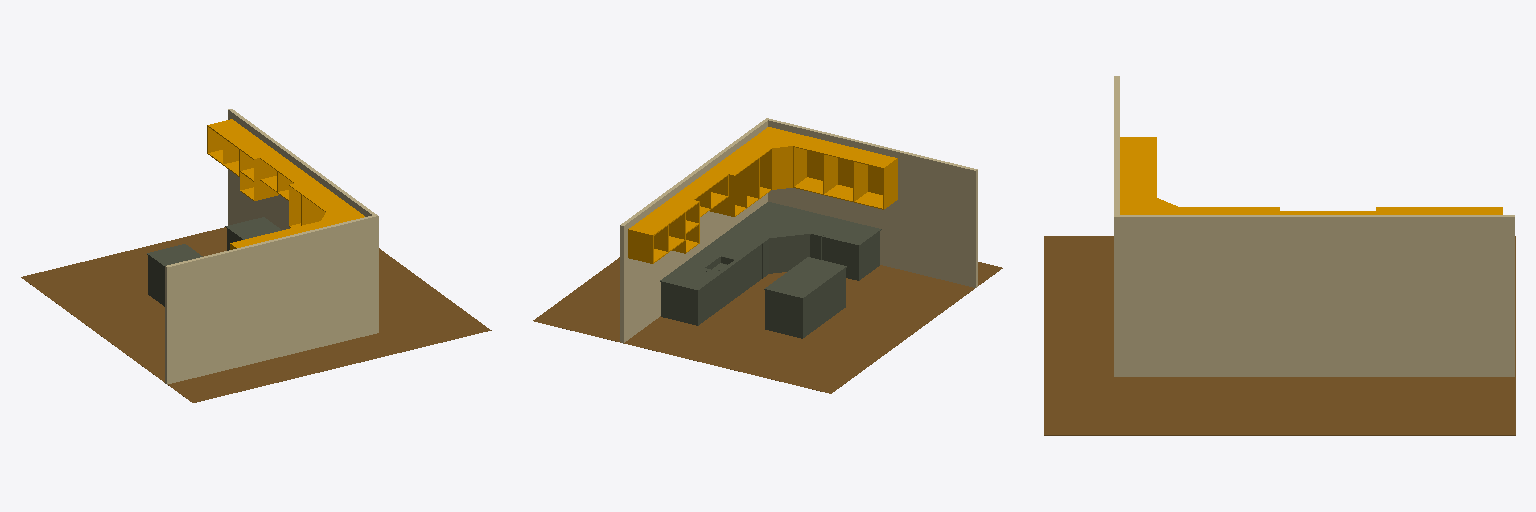
URDF robot description (Kitchen_static):
<?xml version="1.0"?>
<!-- created with Phobos 1.0.1 "Capricious Choutengan" -->
  <robot name="Kitchen_static">

    <link name="cabinets_root">
      <inertial>
        <origin xyz="0 0 0" rpy="0 0 0"/>
        <mass value="0.001"/>
        <inertia ixx="0.001" ixy="0" ixz="0" iyy="0.001" iyz="0" izz="0.001"/>
      </inertial>
      <visual name="Cabinets">
        <origin xyz="-0.45157 -0.20882 0" rpy="0 0 0"/>
        <geometry>
          <mesh filename="..\meshes\dae\Cabinets.dae" scale="1.0 1.0 1.0"/>
        </geometry>
      </visual>
      <collision name="Cabinets.000">
        <origin xyz="-0.45157 -0.20882 0" rpy="0 0 0"/>
        <geometry>
          <mesh filename="..\meshes\dae\Cabinets.009.dae" scale="1.0 1.0 1.0"/>
        </geometry>
      </collision>
    </link>

    <link name="countertop1_link">
      <inertial>
        <origin xyz="0 0 0" rpy="0 0 0"/>
        <mass value="0.001"/>
        <inertia ixx="0.001" ixy="0" ixz="0" iyy="0.001" iyz="0" izz="0.001"/>
      </inertial>
      <visual name="Countertop_Top1">
        <origin xyz="0 -0.00258 -0.00031" rpy="0 0 0"/>
        <geometry>
          <mesh filename="..\meshes\dae\Cube.152.dae" scale="1.0 1.0 1.0"/>
        </geometry>
        <material name="GenericCounterMaterial"/>
      </visual>
      <collision name="Countertop_Top1.000">
        <origin xyz="0 -0.00258 -0.00061" rpy="0 0 0"/>
        <geometry>
          <mesh filename="..\meshes\dae\Cube.153.dae" scale="1.0 1.0 1.0"/>
        </geometry>
      </collision>
    </link>

    <link name="countertop_corner_link">
      <inertial>
        <origin xyz="0 0 0" rpy="0 0 0"/>
        <mass value="0.001"/>
        <inertia ixx="0.001" ixy="0" ixz="0" iyy="0.001" iyz="0" izz="0.001"/>
      </inertial>
      <visual name="Countertop_Corner_Base">
        <origin xyz="0 0 0" rpy="0 0 0"/>
        <geometry>
          <mesh filename="..\meshes\dae\Cube.154.dae" scale="1.0 1.0 1.0"/>
        </geometry>
        <material name="GenericCounterMaterial"/>
      </visual>
      <collision name="Countertop_Corner_Base.000">
        <origin xyz="0.0007 -0.00555 0.0003" rpy="0 0 0"/>
        <geometry>
          <mesh filename="..\meshes\dae\Cube.158.dae" scale="1.0 1.0 1.0"/>
        </geometry>
      </collision>
    </link>

    <link name="countertop_edge_link">
      <inertial>
        <origin xyz="0 0 0" rpy="0 0 0"/>
        <mass value="0.001"/>
        <inertia ixx="0.001" ixy="0" ixz="0" iyy="0.001" iyz="0" izz="0.001"/>
      </inertial>
      <visual name="Countertop_Top.001">
        <origin xyz="0 0 0" rpy="0 0 0"/>
        <geometry>
          <mesh filename="..\meshes\dae\Cube.155.dae" scale="1.0 1.0 1.0"/>
        </geometry>
        <material name="GenericCounterMaterial"/>
      </visual>
      <collision name="Countertop_Top.001.000">
        <origin xyz="0 0 6e-05" rpy="0 0 0"/>
        <geometry>
          <mesh filename="..\meshes\dae\Cube.156.dae" scale="1.0 1.0 1.0"/>
        </geometry>
      </collision>
    </link>

    <link name="countertop_link">
      <inertial>
        <origin xyz="0 0 0" rpy="0 0 0"/>
        <mass value="0.001"/>
        <inertia ixx="0.001" ixy="0" ixz="0" iyy="0.001" iyz="0" izz="0.001"/>
      </inertial>
      <visual name="Countertop_Top">
        <origin xyz="0 0 0" rpy="0 0 0"/>
        <geometry>
          <mesh filename="..\meshes\dae\Cube.142.dae" scale="1.0 1.0 1.0"/>
        </geometry>
        <material name="GenericCounterMaterial"/>
      </visual>
      <collision name="Countertop_Top.col">
        <origin xyz="0 0 0.00015" rpy="0 0 0"/>
        <geometry>
          <mesh filename="..\meshes\dae\Cube.143.dae" scale="1.0 1.0 1.0"/>
        </geometry>
      </collision>
    </link>

    <link name="countertop_sink_link">
      <inertial>
        <origin xyz="0 0 0" rpy="0 0 0"/>
        <mass value="0.001"/>
        <inertia ixx="0.001" ixy="0" ixz="0" iyy="0.001" iyz="0" izz="0.001"/>
      </inertial>
      <visual name="Countertop_Sink">
        <origin xyz="0 0 0" rpy="0 0 0"/>
        <geometry>
          <mesh filename="..\meshes\dae\Cube.146.dae" scale="1.0 1.0 1.0"/>
        </geometry>
        <material name="GenericCounterMaterial"/>
      </visual>
      <collision name="Countertop_Sink.000">
        <origin xyz="0 0 -0.00261" rpy="0 0 0"/>
        <geometry>
          <mesh filename="..\meshes\dae\Cube.147.dae" scale="1.0 1.0 1.0"/>
        </geometry>
      </collision>
    </link>

    <link name="countertop_tall2_link">
      <inertial>
        <origin xyz="0 0 0" rpy="0 0 0"/>
        <mass value="0.001"/>
        <inertia ixx="0.001" ixy="0" ixz="0" iyy="0.001" iyz="0" izz="0.001"/>
      </inertial>
      <visual name="Countertop_Top_Taller2">
        <origin xyz="0 0 0" rpy="0 0 0"/>
        <geometry>
          <mesh filename="..\meshes\dae\Cube.008.dae" scale="1.0 1.0 1.0"/>
        </geometry>
        <material name="GenericCounterMaterial"/>
      </visual>
      <collision name="Countertop_Top_Taller2.000">
        <origin xyz="0 0 0.00057" rpy="0 0 0"/>
        <geometry>
          <mesh filename="..\meshes\dae\Cube.000.dae" scale="1.0 1.0 1.0"/>
        </geometry>
      </collision>
    </link>

    <link name="countertop_tall_link">
      <inertial>
        <origin xyz="0 0 0" rpy="0 0 0"/>
        <mass value="0.001"/>
        <inertia ixx="0.001" ixy="0" ixz="0" iyy="0.001" iyz="0" izz="0.001"/>
      </inertial>
      <visual name="Countertop_Top_Taller">
        <origin xyz="0 0 0" rpy="0 0 0"/>
        <geometry>
          <mesh filename="..\meshes\dae\Cube.157.dae" scale="1.0 1.0 1.0"/>
        </geometry>
        <material name="GenericCounterMaterial"/>
      </visual>
      <collision name="Countertop_Top_Taller.000">
        <origin xyz="0 0 -0.00019" rpy="0 0 0"/>
        <geometry>
          <mesh filename="..\meshes\dae\Cube.159.dae" scale="1.0 1.0 1.0"/>
        </geometry>
      </collision>
    </link>

    <link name="root_static">
      <inertial>
        <origin xyz="0 0 0" rpy="0 0 0"/>
        <mass value="0.001"/>
        <inertia ixx="0.001" ixy="0" ixz="0" iyy="0.001" iyz="0" izz="0.001"/>
      </inertial>
      <visual name="Floor">
        <origin xyz="0 0 0" rpy="0 0 0"/>
        <geometry>
          <box size="8.0 8.0 0.002"/>
        </geometry>
        <material name="Floor_Material"/>
      </visual>
      <collision name="Floor">
        <origin xyz="0 0 0" rpy="0 0 0"/>
        <geometry>
          <box size="8.0 8.0 0.002"/>
        </geometry>
      </collision>
    </link>

    <link name="wall1">
      <inertial>
        <origin xyz="0 0 0" rpy="0 0 0"/>
        <mass value="0.001"/>
        <inertia ixx="0.001" ixy="0" ixz="0" iyy="0.001" iyz="0" izz="0.001"/>
      </inertial>
      <visual name="Wall_1">
        <origin xyz="0 0 0" rpy="0 0 0"/>
        <geometry>
          <box size="0.10015 6.70389 3.00596"/>
        </geometry>
        <material name="Wall_material"/>
      </visual>
      <collision name="Wall_1.col">
        <origin xyz="0 0 0" rpy="0 0 0"/>
        <geometry>
          <box size="0.10015 6.70389 3.00596"/>
        </geometry>
      </collision>
    </link>

    <link name="wall2">
      <inertial>
        <origin xyz="0 0 0" rpy="0 0 0"/>
        <mass value="0.001"/>
        <inertia ixx="0.001" ixy="0" ixz="0" iyy="0.001" iyz="0" izz="0.001"/>
      </inertial>
      <visual name="Wall_2">
        <origin xyz="0 0 0" rpy="0 0 0"/>
        <geometry>
          <box size="5.65911 0.10015 3.00596"/>
        </geometry>
        <material name="Wall_material"/>
      </visual>
      <collision name="Wall_2">
        <origin xyz="0 0 0" rpy="0 0 0"/>
        <geometry>
          <box size="5.65911 0.10015 3.00596"/>
        </geometry>
      </collision>
    </link>

    <joint name="cabinets_root" type="fixed">
      <origin xyz="1.23355 0.35459 2.3706" rpy="0 0 0"/>
      <parent link="root_static"/>
      <child link="cabinets_root"/>
    </joint>

    <joint name="countertop1_link" type="fixed">
      <origin xyz="1.04436 -0.18407 0.90913" rpy="0 0 0"/>
      <parent link="root_static"/>
      <child link="countertop1_link"/>
    </joint>

    <joint name="countertop_corner_link" type="fixed">
      <origin xyz="0.63422 -1.78146 0.44381" rpy="0 0 -3.14159"/>
      <parent link="root_static"/>
      <child link="countertop_corner_link"/>
    </joint>

    <joint name="countertop_edge_link" type="fixed">
      <origin xyz="-0.95636 -2.19209 0.90906" rpy="0 0 0"/>
      <parent link="root_static"/>
      <child link="countertop_edge_link"/>
    </joint>

    <joint name="countertop_link" type="fixed">
      <origin xyz="1.04436 1.80656 0.90913" rpy="0 0 0"/>
      <parent link="root_static"/>
      <child link="countertop_link"/>
    </joint>

    <joint name="countertop_sink_link" type="fixed">
      <origin xyz="1.04357 0.81118 0.90952" rpy="0 0 3.14154"/>
      <parent link="root_static"/>
      <child link="countertop_sink_link"/>
    </joint>

    <joint name="countertop_tall2_link" type="fixed">
      <origin xyz="-1.41531 1.20516 0.92078" rpy="0 0 0"/>
      <parent link="root_static"/>
      <child link="countertop_tall2_link"/>
    </joint>

    <joint name="countertop_tall_link" type="fixed">
      <origin xyz="-1.41586 0.20737 0.92078" rpy="0 0 0"/>
      <parent link="root_static"/>
      <child link="countertop_tall_link"/>
    </joint>

    <joint name="wall1" type="fixed">
      <origin xyz="1.60982 0.64096 1.49534" rpy="0 0 0"/>
      <parent link="root_static"/>
      <child link="wall1"/>
    </joint>

    <joint name="wall2" type="fixed">
      <origin xyz="-1.16959 -2.76415 1.49534" rpy="0 0 0"/>
      <parent link="root_static"/>
      <child link="wall2"/>
    </joint>

    <material name="Floor_Material">
      <color rgba="0.51303 0.37541 0.19019 1.0"/>
    </material>

    <material name="GenericCounterMaterial">
      <color rgba="0.36791 0.38159 0.31374 1.0"/>
    </material>

    <material name="Wall_material">
      <color rgba="0.8 0.74126 0.58046 1.0"/>
    </material>

  </robot>

--- What the picture shows (computed from the rendered views, not written in the file) ---
3 views of the same robot in one strip: view 1: azimuth 30°, elevation 25°; view 2: azimuth 150°, elevation 25°; view 3: azimuth 270°, elevation 25° (orthographic).
Robot: Kitchen_static — 11 links, 10 joints (10 fixed); root link root_static; default pose: every joint at zero.
Visible links, largest first — view 1: wall2, root_static, cabinets_root, wall1, countertop_tall2_link, countertop_link; view 2: root_static, cabinets_root, wall2, wall1, countertop_corner_link, countertop_tall2_link, countertop_link, countertop_edge_link, countertop_tall_link, countertop_sink_link, countertop1_link; view 3: wall1, root_static, cabinets_root, wall2.
Link boxes in pixels (box(x1,y1,x2,y2)): wall2: box(165, 214, 378, 384); root_static: box(21, 227, 491, 402); cabinets_root: box(207, 119, 364, 249); wall1: box(228, 109, 375, 229); countertop_tall2_link: box(147, 244, 202, 306); countertop_link: box(225, 217, 281, 250); root_static: box(533, 257, 1002, 393); cabinets_root: box(628, 127, 897, 263); wall2: box(765, 118, 977, 287); wall1: box(620, 120, 767, 343); countertop_corner_link: box(725, 202, 843, 278); countertop_tall2_link: box(764, 273, 824, 338); countertop_link: box(660, 265, 719, 325); countertop_edge_link: box(822, 220, 881, 280); countertop_tall_link: box(787, 257, 846, 322); countertop_sink_link: box(682, 249, 741, 309); countertop1_link: box(704, 234, 762, 293); wall1: box(1120, 215, 1514, 376); root_static: box(1044, 236, 1515, 435); cabinets_root: box(1120, 137, 1502, 214); wall2: box(1114, 76, 1119, 376).
Bounding box of the posed robot: 8 × 8 × 3.01 m (x, y, z).
Meshes: 8 distinct files referenced, 8 mesh visuals loaded (8 Collada DAE).